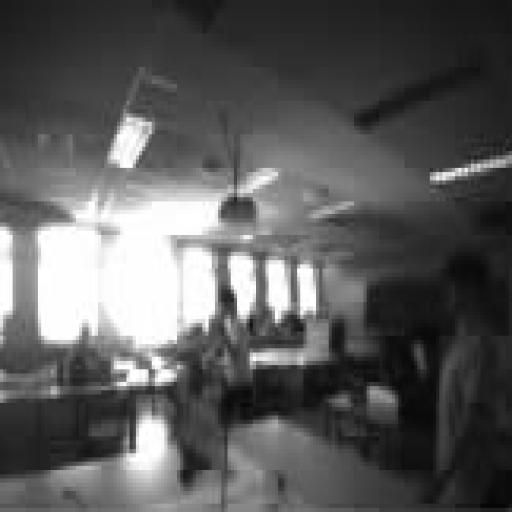human: (424, 252, 496, 507), (211, 288, 257, 428)
